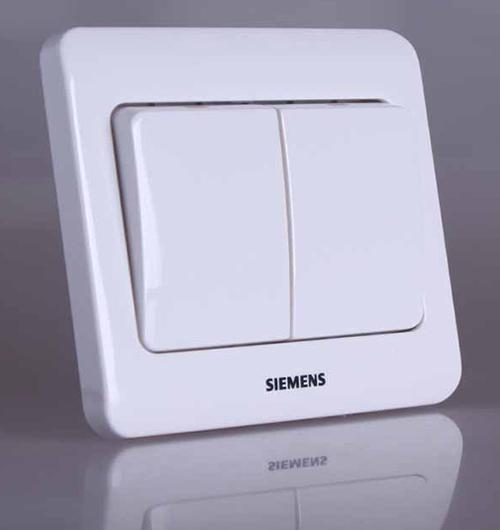button: (36, 25, 466, 438)
